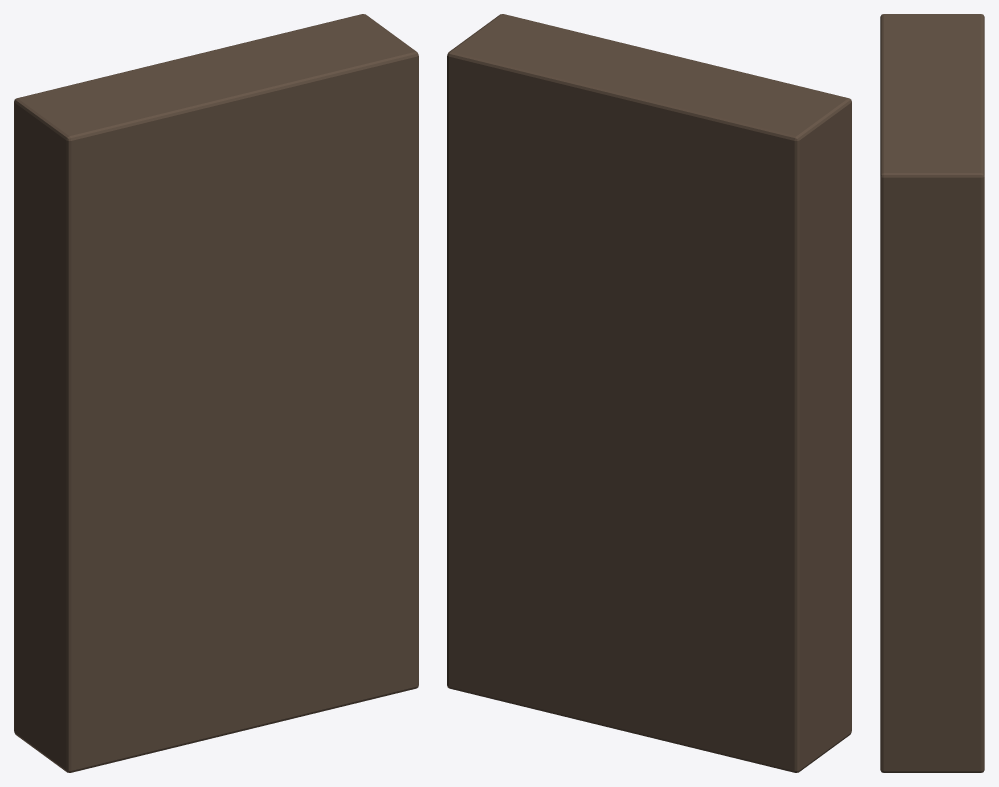
The model's file is bookshelf.glb.
3 views of the same model, side by side, from view 1: azimuth 30°, elevation 25°; view 2: azimuth 150°, elevation 25°; view 3: azimuth 270°, elevation 25° (orthographic). The views are drawn at different scales.
Visible parts, largest first — view 1: bookshelf; view 2: bookshelf; view 3: bookshelf.
Part boxes in pixels (x1,y1,x2,y2): bookshelf: (14, 14, 418, 772); bookshelf: (447, 14, 851, 772); bookshelf: (880, 14, 984, 772).
Size of the model in its own units: 1.1 by 1.9 by 0.3.
